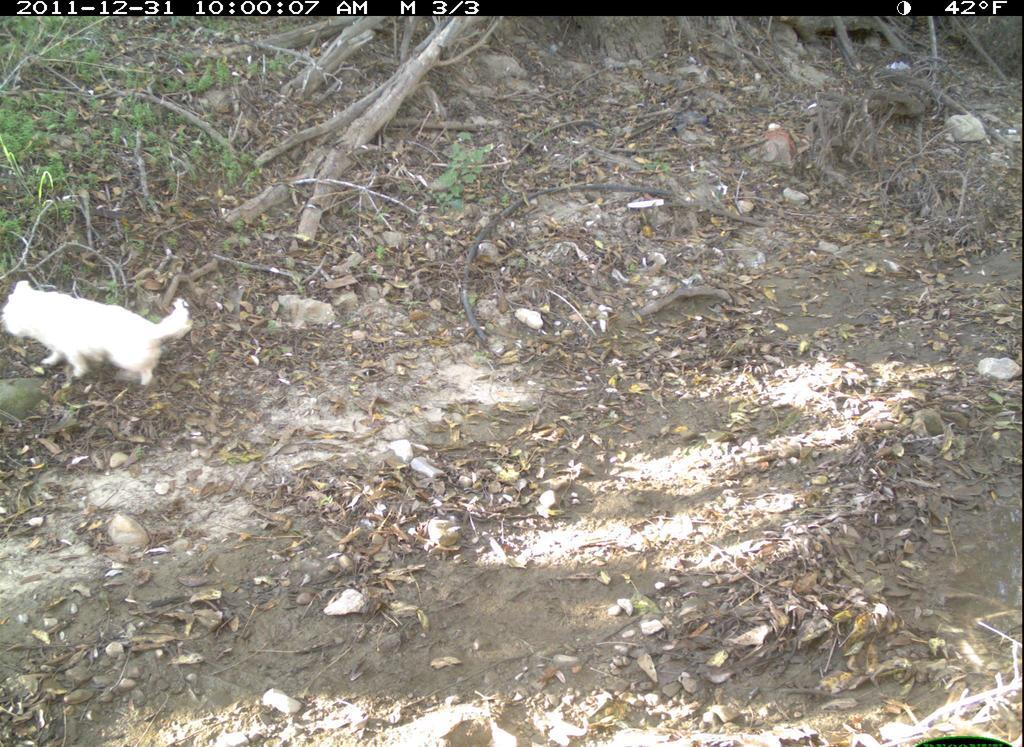dog: (4, 274, 204, 392)
